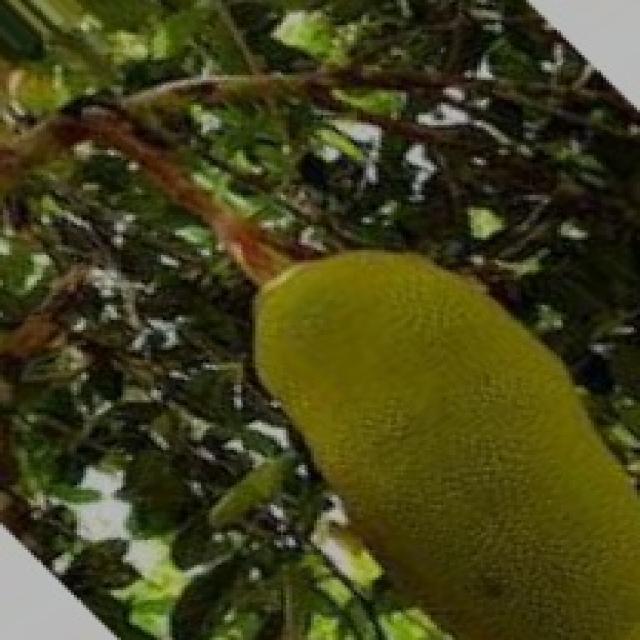Fruit: (221, 220, 640, 637)
